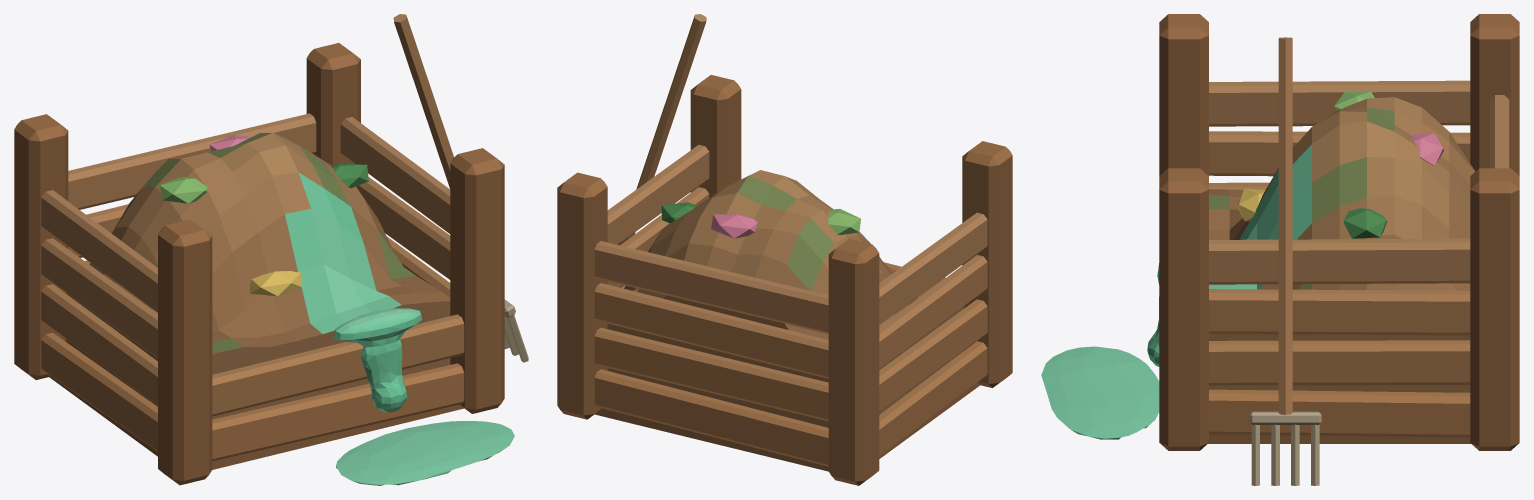
The model's file is ranch_compost_bin.fbx.
The picture shows the model from 3 angles, left to right: view 1: azimuth 30°, elevation 25°; view 2: azimuth 150°, elevation 25°; view 3: azimuth 270°, elevation 25°; orthographic projection. The views are drawn at different scales.
Parts seen in each view (by area): view 1: ranch_compost_bin; view 2: ranch_compost_bin; view 3: ranch_compost_bin.
Boxes of the visible parts, left/top/right/bottom form: ranch_compost_bin: left=14, top=14, right=528, bottom=485; ranch_compost_bin: left=557, top=14, right=1012, bottom=485; ranch_compost_bin: left=1041, top=14, right=1519, bottom=485.
Bounding box in the file's own units: 5.49 × 4.8 × 5.31.
